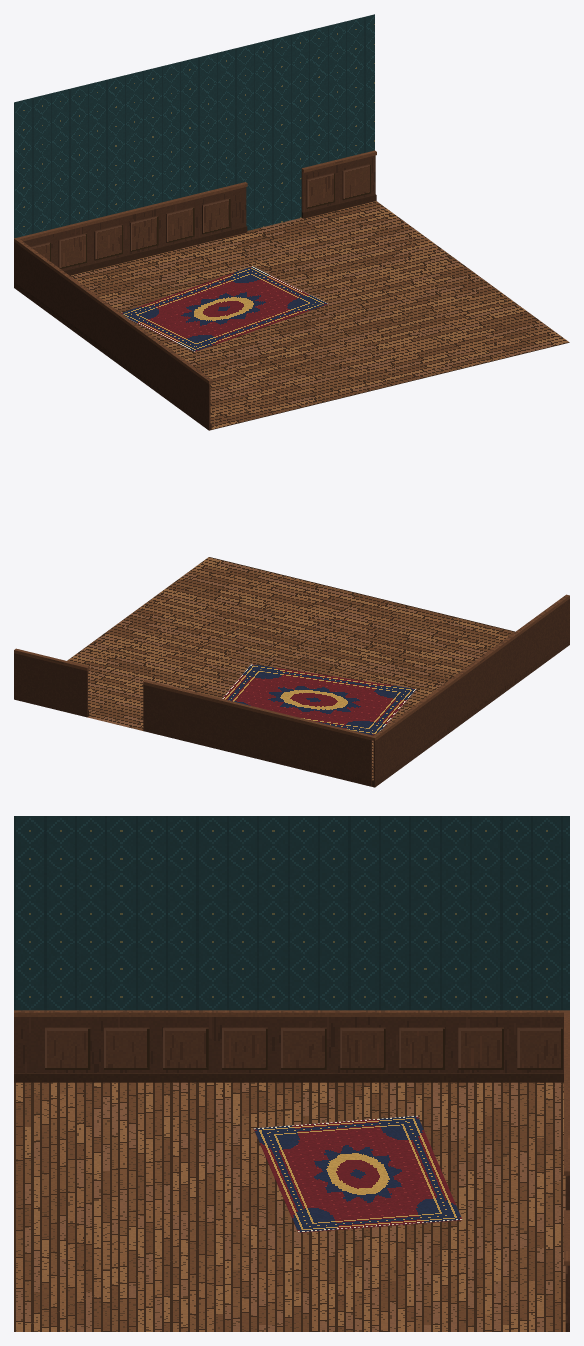
The model's file is office_room.glb.
The picture shows the model from 3 angles, top to bottom: view 1: azimuth 30°, elevation 25°; view 2: azimuth 150°, elevation 25°; view 3: azimuth 270°, elevation 25°; orthographic projection. The views are drawn at different scales.
Parts seen in each view (by area): view 1: office_room; view 2: office_room; view 3: office_room.
Part boxes in pixels (x1,y1,x2,y2): office_room: (14,14,569,430); office_room: (14,557,569,787); office_room: (14,816,569,1331).
Bounding box in the file's own units: 8.55 × 4.2 × 8.
1 material, 1 textured.
